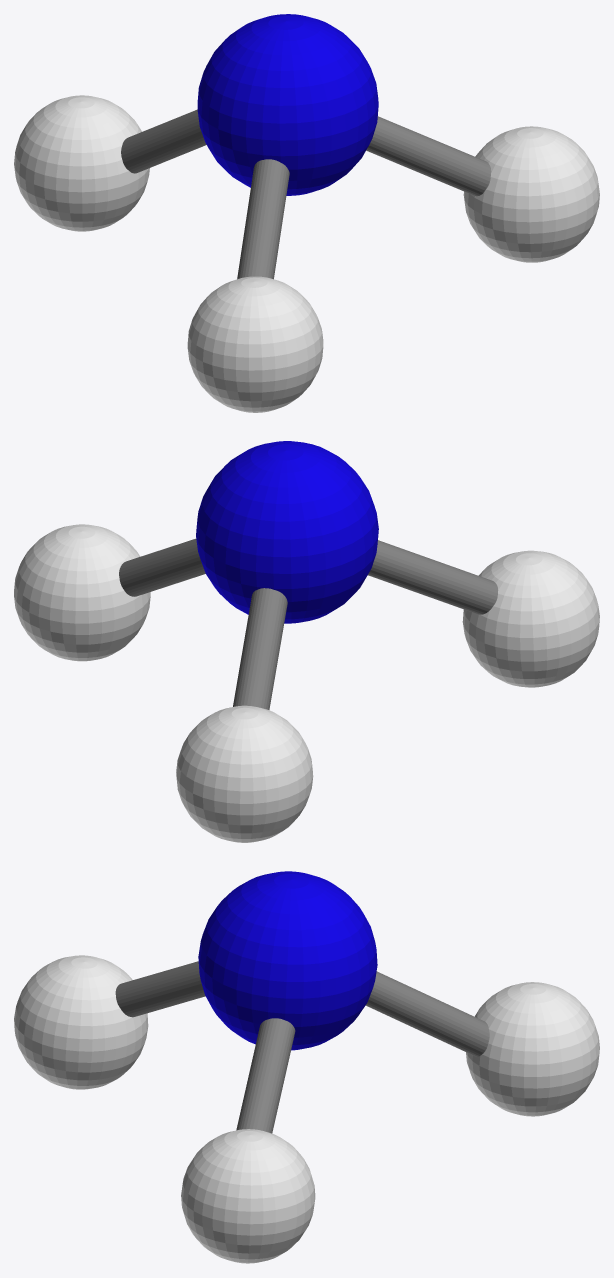
3 renders of one model, top to bottom at view 1: azimuth 30°, elevation 25°; view 2: azimuth 150°, elevation 25°; view 3: azimuth 270°, elevation 25°, orthographic. The views are drawn at different scales.
Parts seen in each view (by area): view 1: Sphere, Sphere.006, Sphere.001, Sphere.003, Cylinder.003, Cylinder.012, Cylinder.005; view 2: Sphere, Sphere.003, Sphere.006, Sphere.001, Cylinder.012, Cylinder.005, Cylinder.003; view 3: Sphere, Sphere.001, Sphere.003, Sphere.006, Cylinder.005, Cylinder.003, Cylinder.012.
Part boxes in pixels (x1=…): Sphere: x1=197, y1=14, x2=378, y2=195; Sphere.006: x1=187, y1=276, x2=323, y2=412; Sphere.001: x1=463, y1=126, x2=599, y2=262; Sphere.003: x1=14, y1=95, x2=149, y2=231; Cylinder.003: x1=366, y1=116, x2=491, y2=196; Cylinder.012: x1=237, y1=159, x2=289, y2=279; Cylinder.005: x1=121, y1=109, x2=206, y2=173; Sphere: x1=196, y1=441, x2=378, y2=623; Sphere.003: x1=176, y1=705, x2=313, y2=842; Sphere.006: x1=462, y1=550, x2=599, y2=687; Sphere.001: x1=14, y1=524, x2=150, y2=661; Cylinder.012: x1=368, y1=540, x2=498, y2=614; Cylinder.005: x1=233, y1=588, x2=287, y2=709; Cylinder.003: x1=119, y1=538, x2=205, y2=596; Sphere: x1=198, y1=871, x2=377, y2=1050; Sphere.001: x1=181, y1=1129, x2=315, y2=1263; Sphere.003: x1=466, y1=982, x2=599, y2=1116; Sphere.006: x1=14, y1=955, x2=148, y2=1089; Cylinder.005: x1=365, y1=971, x2=489, y2=1056; Cylinder.003: x1=236, y1=1018, x2=295, y2=1133; Cylinder.012: x1=115, y1=961, x2=205, y2=1017.
Bounding box in the file's own units: 2.43 × 1.33 × 2.61.
